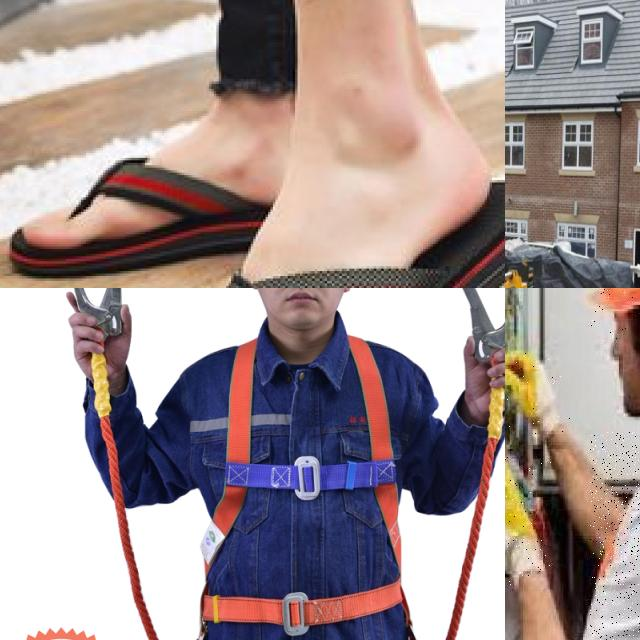Harness: (192, 336, 410, 640), (451, 288, 505, 412), (67, 288, 134, 356)
Sandals: (16, 122, 291, 269), (134, 187, 505, 288)
hand_glove: (505, 454, 544, 581), (505, 352, 560, 432)
